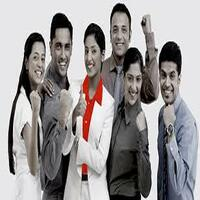person: (47, 8, 80, 89), (110, 46, 151, 108), (78, 11, 110, 89), (155, 32, 187, 110), (20, 30, 49, 89), (110, 1, 136, 58)
